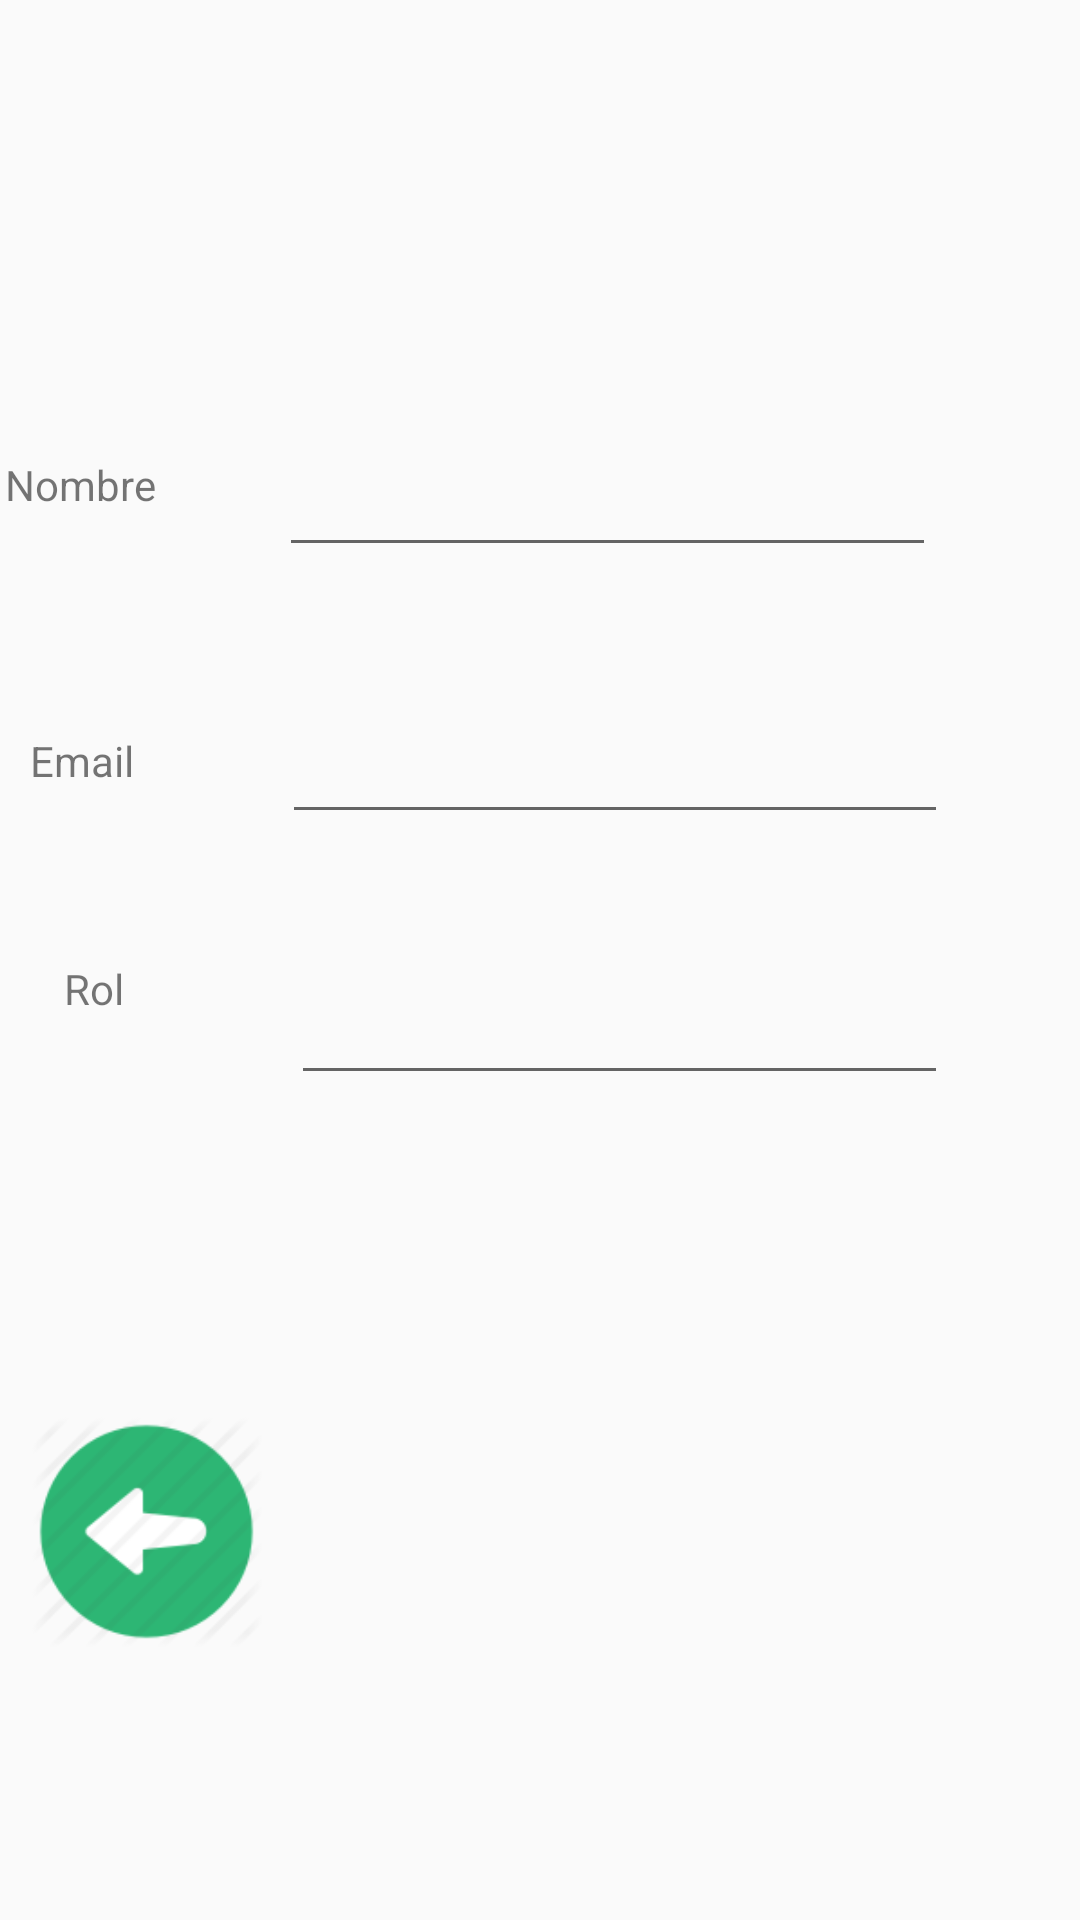

Where icons sit on this 1080 × 1920 app screen, as (x1, y1, x2, y2):
back feriavirtual: (39, 1424, 254, 1639)
